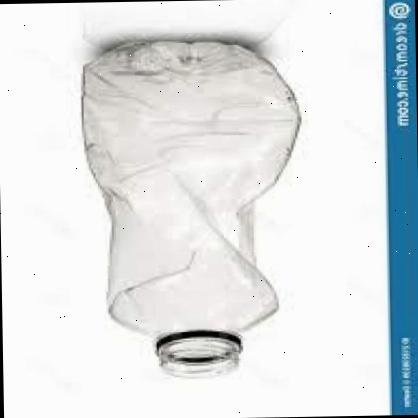bottle: (58, 29, 328, 390)
